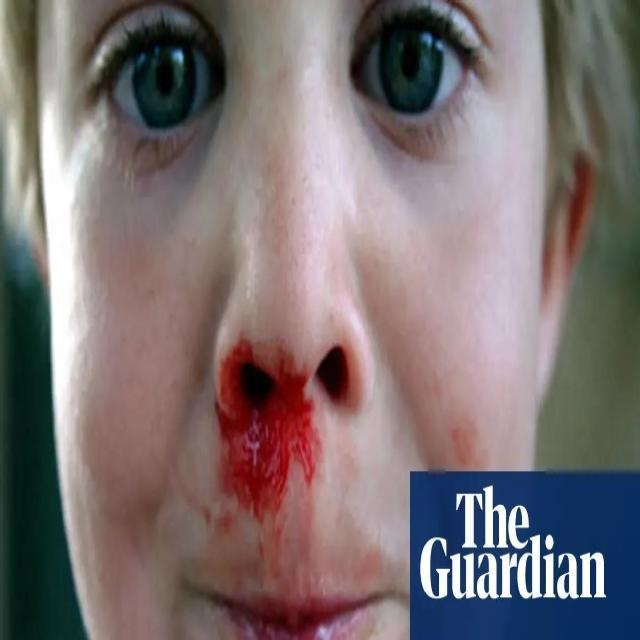flood: (225, 340, 318, 519)
